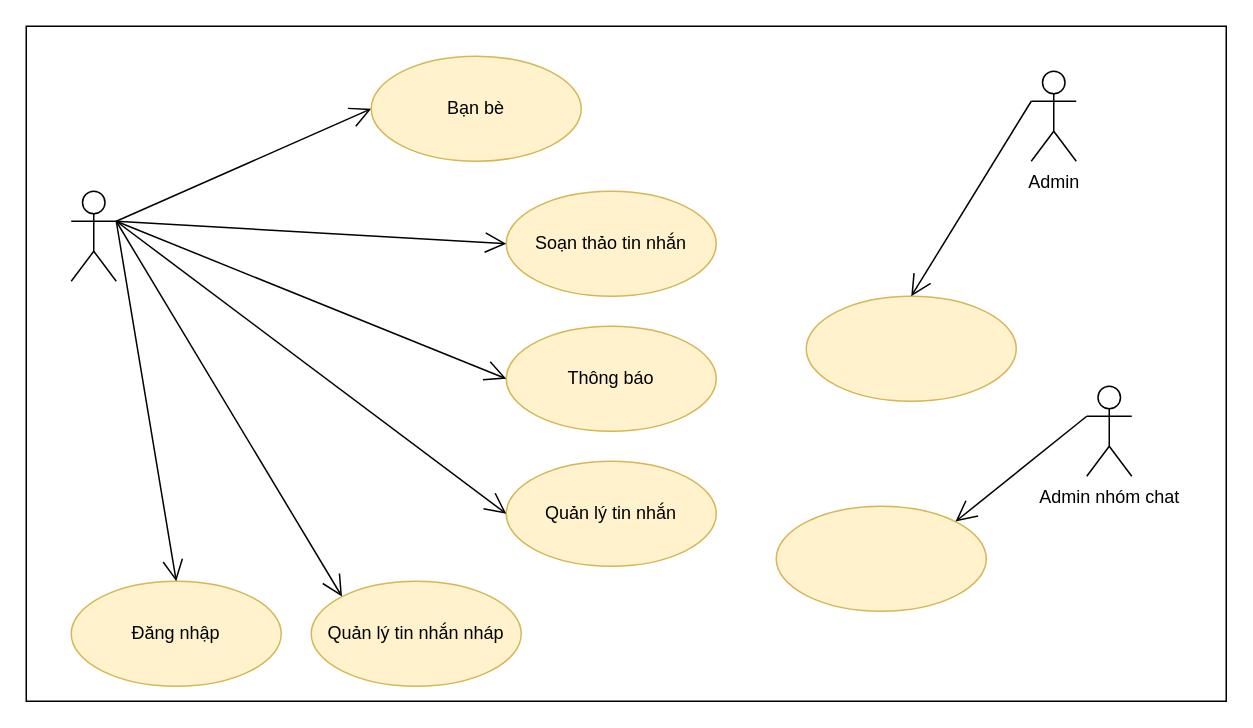
Image size: 1253x728. Some labels were removed from this diagram. The centre of each missing label's shape, as x and y in pixels:
Quản lý nhóm: the point at 880,558
Quản lý tài khoản: the point at 910,348
User: the point at 93,235
